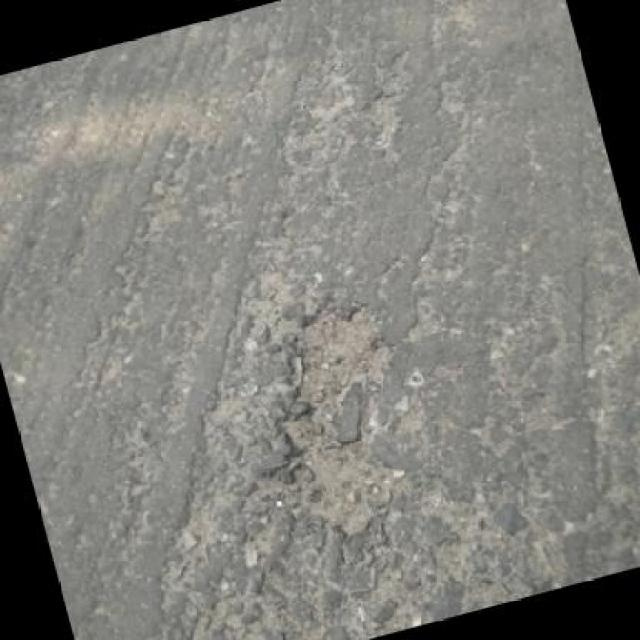pothole1: (228, 295, 428, 551)
